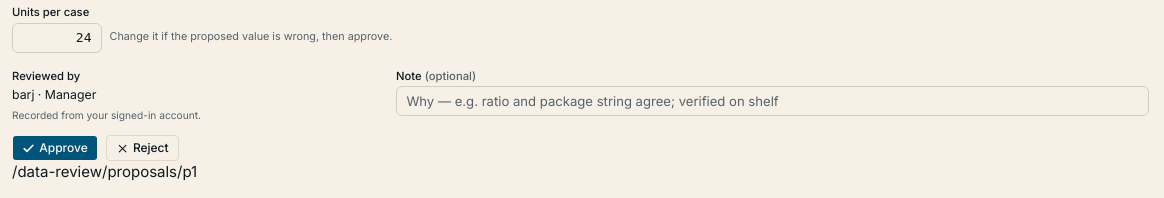
Test: DecisionPanel — units per case › saves without approving when asked
Replace the text in the field with test id "decision-units" with "6": [57, 38] box left=12, top=22, right=102, bottom=52
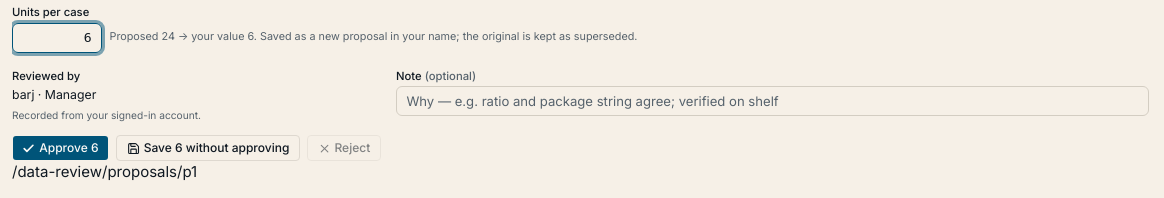
Click the button with test id "decision-save-only": [208, 148] box left=116, top=135, right=300, bottom=161
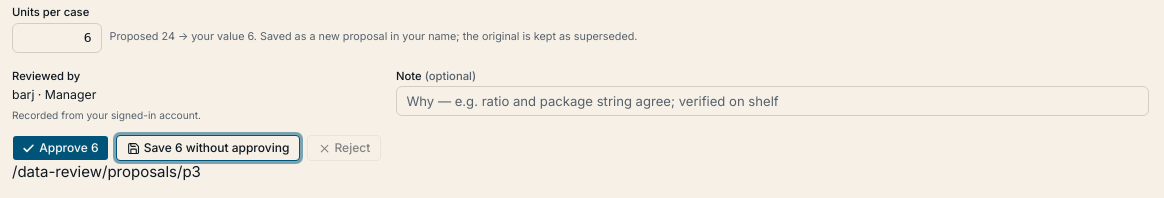
Now the text with test id "where" reads "/data-review/proposals/p3", box left=12, top=162, right=201, bottom=181
